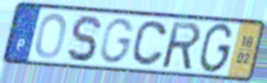C: (129, 19, 170, 68)
G: (196, 21, 235, 75), (98, 16, 137, 65)
O: (34, 11, 69, 60)
R: (161, 20, 203, 72)
S: (65, 13, 102, 64)
